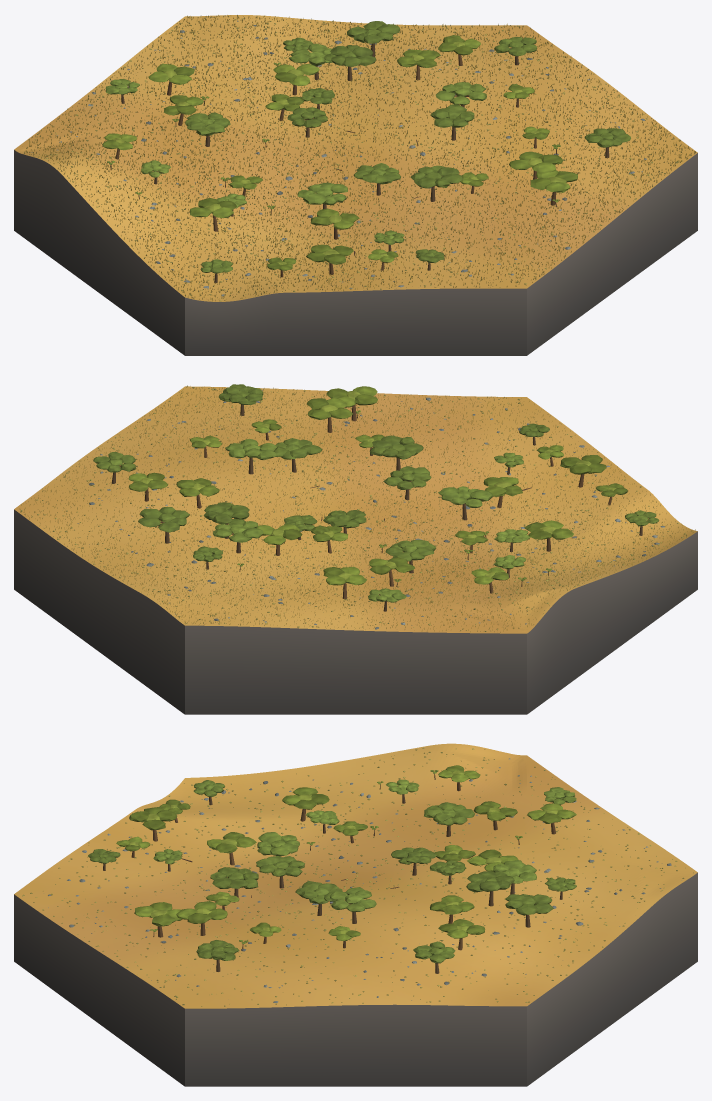
3 views of the same model, one above another, from view 1: azimuth 30°, elevation 25°; view 2: azimuth 150°, elevation 25°; view 3: azimuth 270°, elevation 25° (orthographic).
Parts seen in each view (by area): view 1: terrain, hex_side_cut, wildflowers, broadleaf_canopy, shrubs, trunks, boulders; view 2: terrain, hex_side_cut, broadleaf_canopy, wildflowers, shrubs, trunks, boulders; view 3: terrain, hex_side_cut, broadleaf_canopy, shrubs, trunks, boulders.
Part boxes in pixels (left/top/right/bottom): terrain: left=14, top=15, right=697, bottom=301; hex_side_cut: left=14, top=150, right=697, bottom=355; wildflowers: left=24, top=15, right=695, bottom=301; broadleaf_canopy: left=102, top=21, right=630, bottom=273; shrubs: left=35, top=17, right=691, bottom=301; trunks: left=110, top=43, right=609, bottom=282; boulders: left=31, top=20, right=659, bottom=296; terrain: left=14, top=386, right=697, bottom=633; hex_side_cut: left=14, top=509, right=697, bottom=714; broadleaf_canopy: left=93, top=384, right=659, bottom=602; wildflowers: left=19, top=385, right=695, bottom=632; shrubs: left=20, top=387, right=691, bottom=631; trunks: left=111, top=404, right=642, bottom=611; boulders: left=77, top=390, right=664, bottom=629; terrain: left=14, top=743, right=697, bottom=1008; hex_side_cut: left=14, top=872, right=697, bottom=1086; broadleaf_canopy: left=88, top=765, right=576, bottom=963; shrubs: left=22, top=747, right=693, bottom=1006; trunks: left=103, top=773, right=562, bottom=973; boulders: left=48, top=758, right=681, bottom=1002.
Bounding box in the file's own units: 4330 × 945 × 5000.
